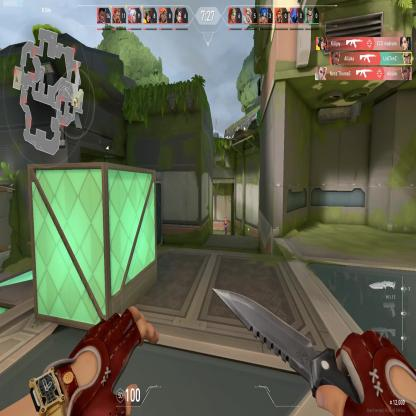enemy: (223, 214, 228, 235)
